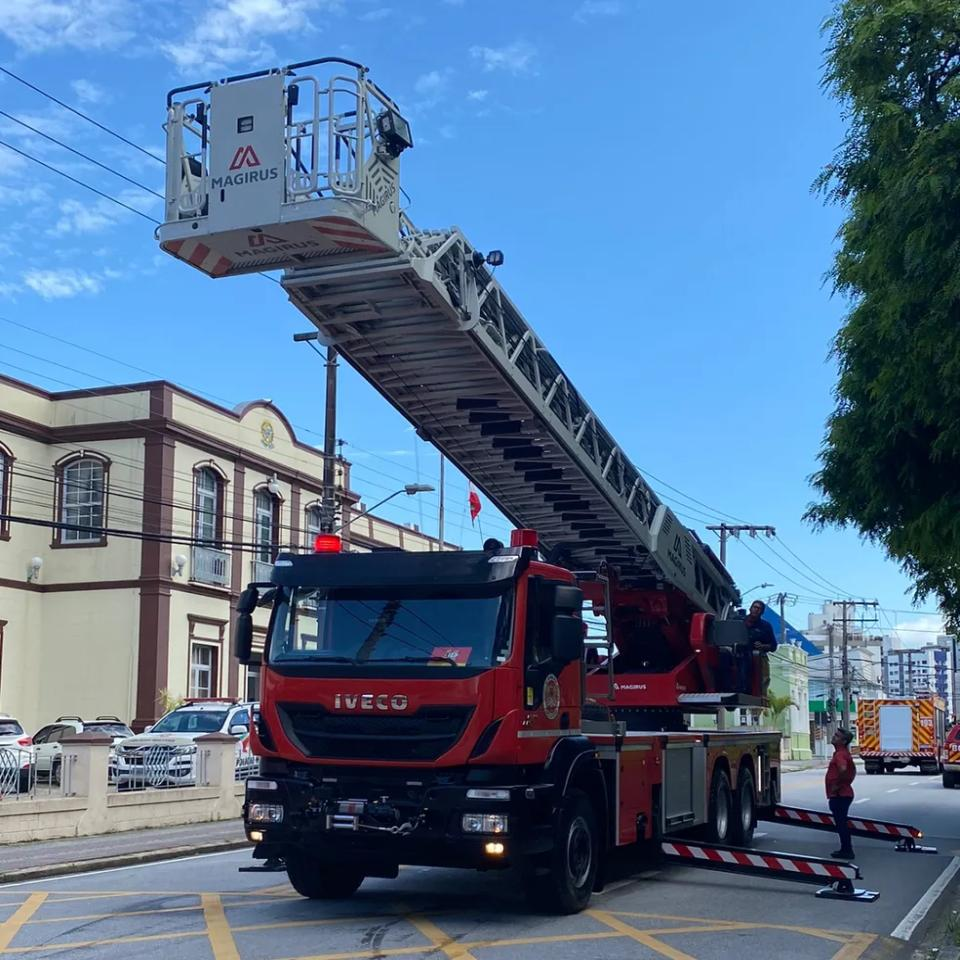viatura: (146, 50, 782, 913)
